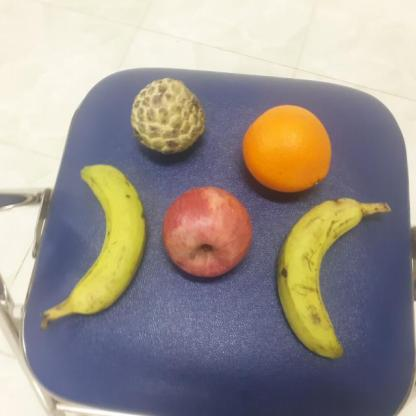annona: (129, 74, 208, 155)
apple: (160, 186, 253, 280)
banana: (273, 197, 361, 359), (61, 162, 148, 322)
orange: (240, 102, 333, 194)
